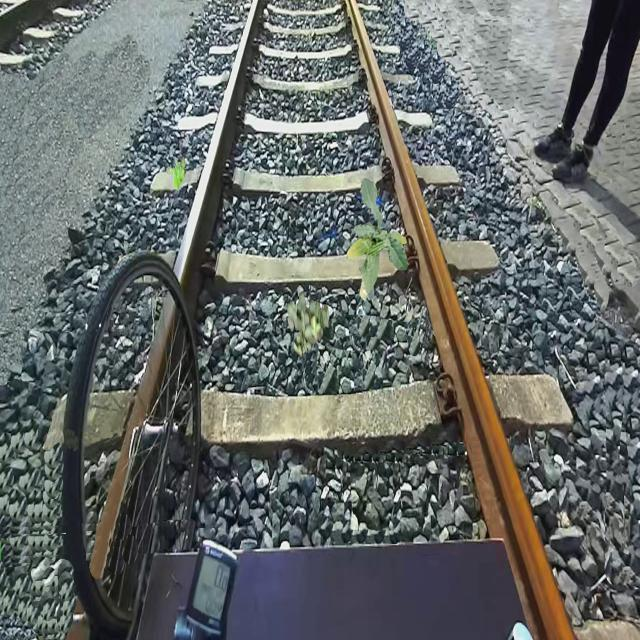Plant: (346, 177, 408, 302), (286, 291, 329, 358), (166, 157, 186, 190)
